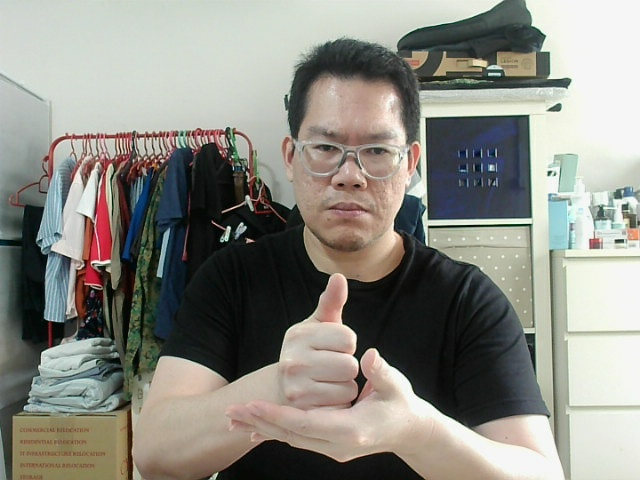help: (268, 281, 350, 412)
